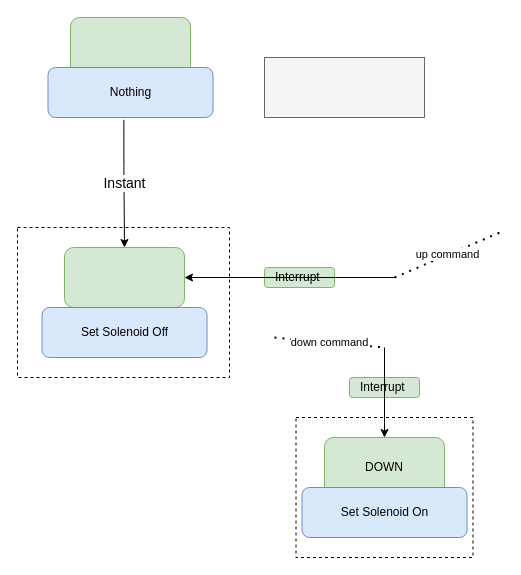
This 521x575 diagram has some shape labels left out. The centre of each missing label's shape, as x and y in pixels:
Actuators: - Pneumatic Solenoid: the point at 344,87
INIT: the point at 130,47
UP: the point at 124,277
